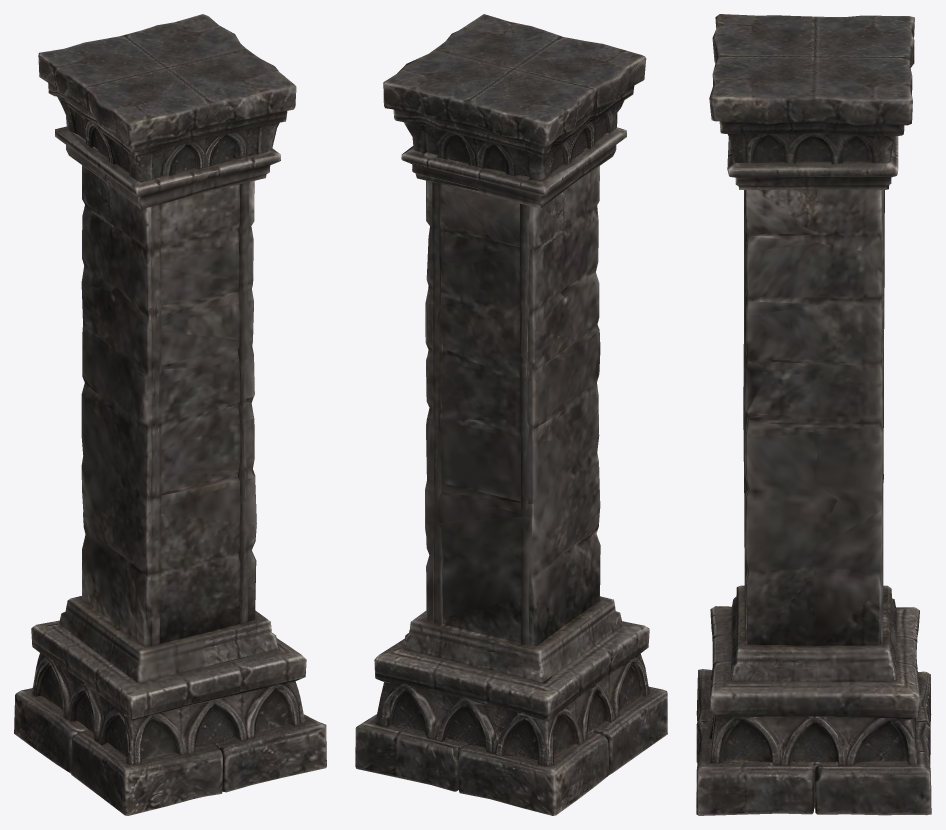
The model's file is d_pillar_decorated.glb.
The picture shows the model from 3 angles, left to right: view 1: azimuth 30°, elevation 25°; view 2: azimuth 150°, elevation 25°; view 3: azimuth 270°, elevation 25°; orthographic projection. The views are drawn at different scales.
Visible parts, largest first — view 1: d_pillar_decorated; view 2: d_pillar_decorated; view 3: d_pillar_decorated.
Boxes of the visible parts, <box> form: d_pillar_decorated: <box>14,14,326,815</box>; d_pillar_decorated: <box>355,14,667,815</box>; d_pillar_decorated: <box>696,14,931,815</box>.
Size of the model in its own units: 1.24 by 4 by 1.21.
Materials: 1 (1 with a texture image).
